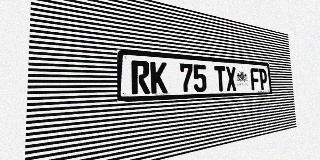5: (193, 64, 207, 92)
7: (179, 63, 194, 93)
F: (250, 68, 260, 90)
K: (150, 61, 168, 94)
P: (259, 68, 268, 90)
R: (131, 60, 150, 94)
T: (214, 66, 226, 92)
X: (225, 66, 237, 91)
